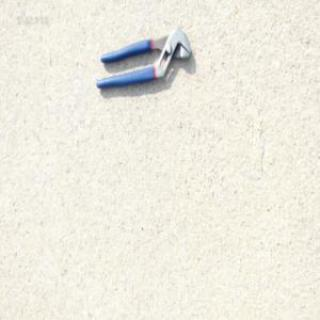Pliertrack_idkeyframe: (94, 26, 191, 90)
